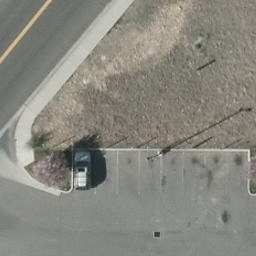car: (76, 148, 93, 191)
